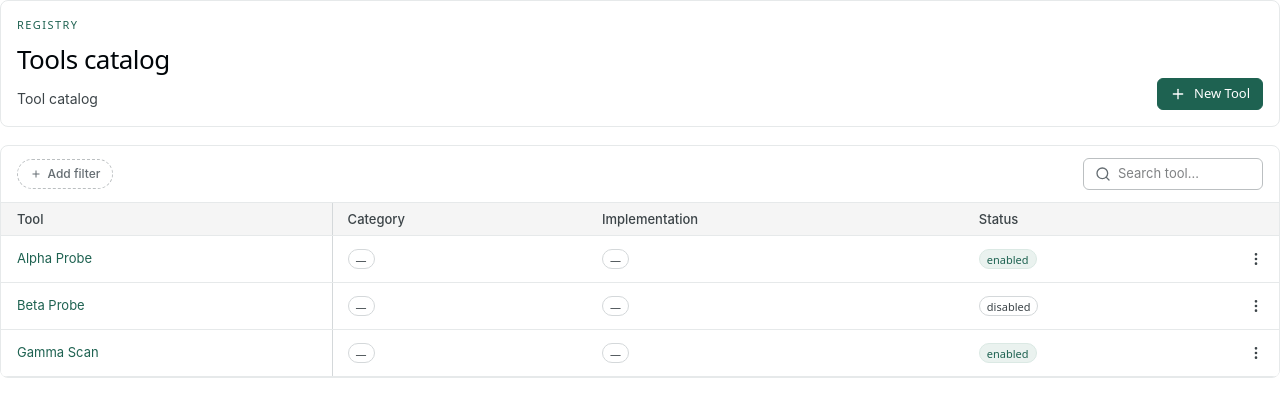
Test: RegistryCatalogSurface › narrows the catalog to the rows matching the search
The image size is (1280, 395).
Expected: the link "Alpha Probe" is shown, top-left (17, 250), bottom-right (92, 266)
Type "gamma" into the search field named "Search tool entries" at {"x": 1184, "y": 174}, box top-left (1118, 164), bottom-right (1251, 184)
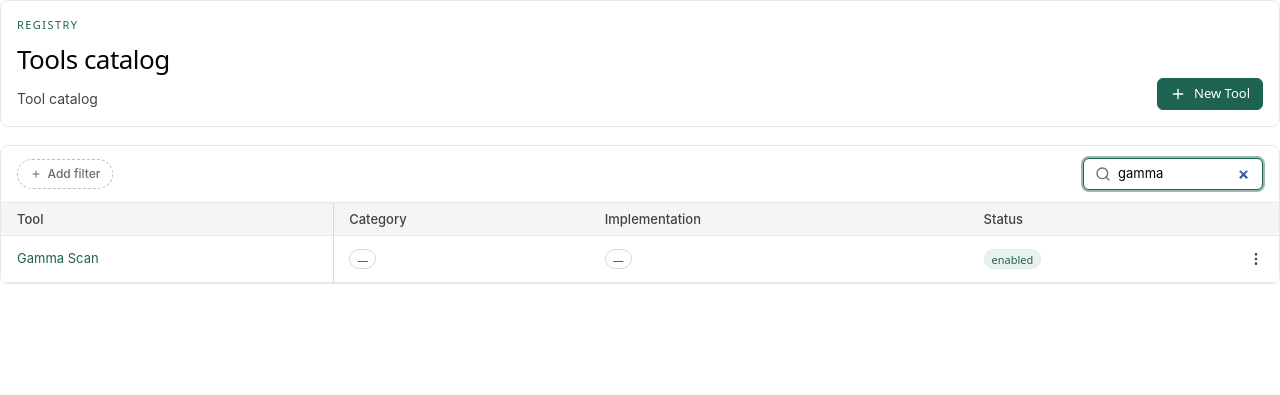
Expected: the link "Gamma Scan" is shown, top-left (17, 250), bottom-right (99, 266)
Expected: the link "Alpha Probe" is gone
